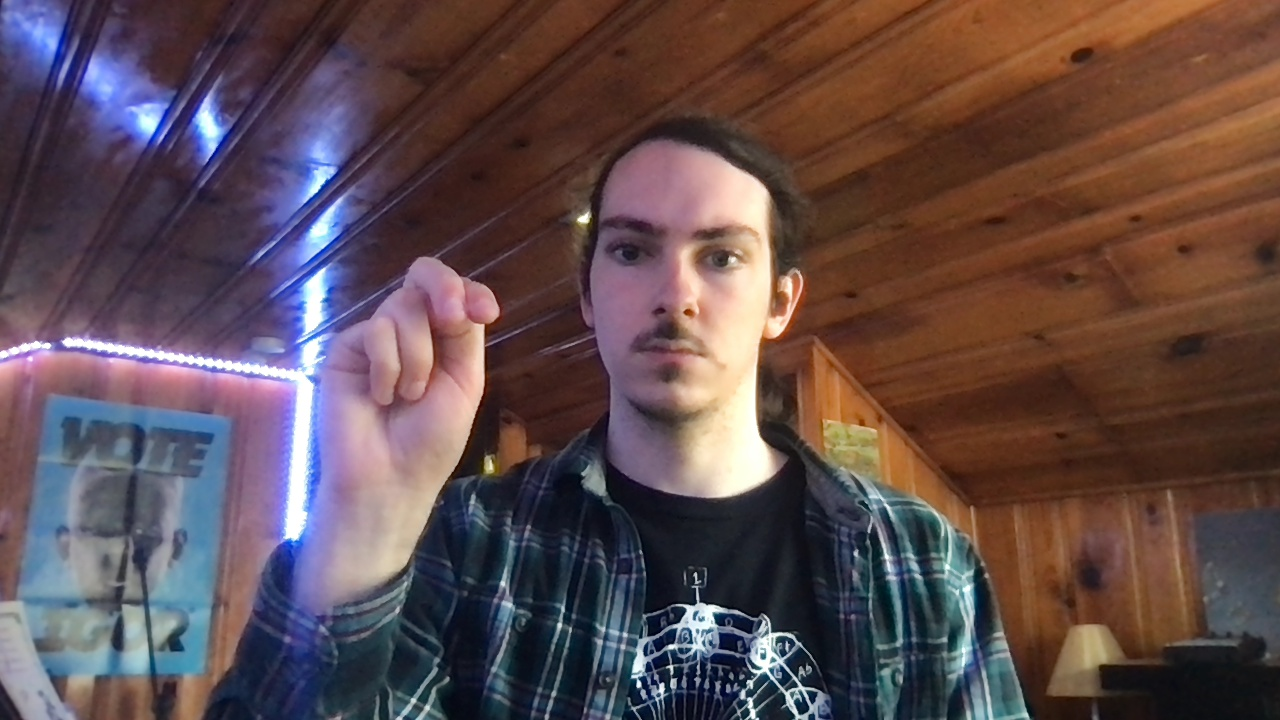n: (316, 253, 502, 500)
